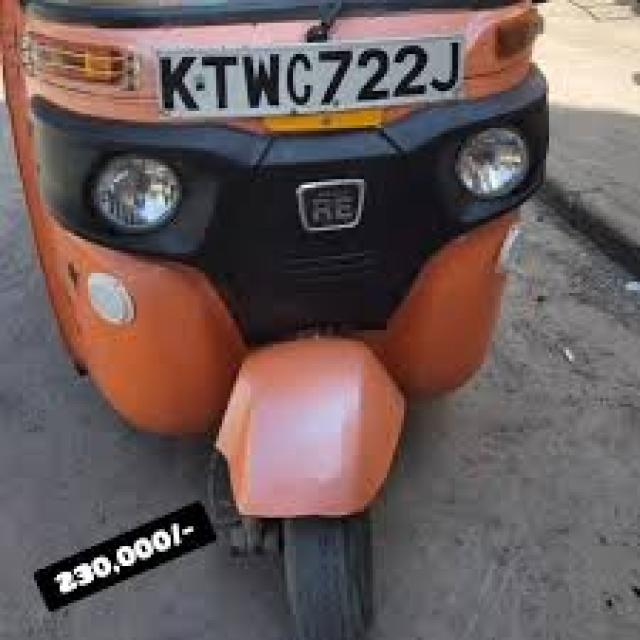tuktuk: (2, 0, 602, 640)
